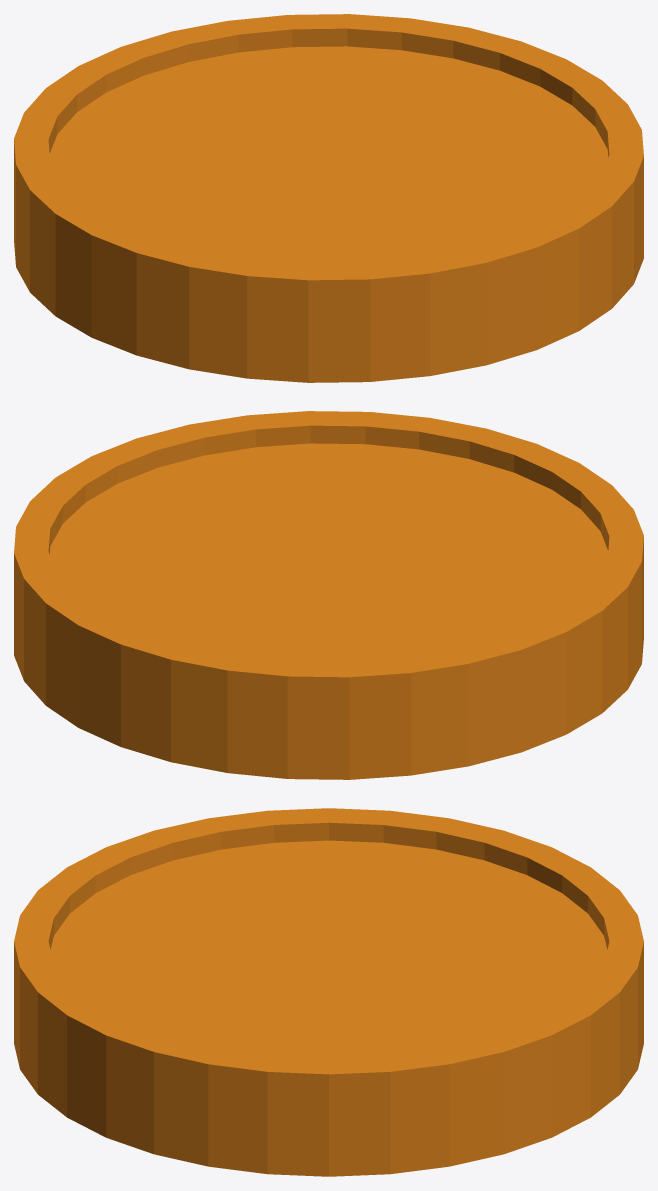
Rendered from Coin.fbx.
The picture shows the model from 3 angles, top to bottom: view 1: azimuth 30°, elevation 25°; view 2: azimuth 150°, elevation 25°; view 3: azimuth 270°, elevation 25°; orthographic projection.
Visible parts, largest first — view 1: Circle.001; view 2: Circle.001; view 3: Circle.001.
Boxes of the visible parts, x1,y1,x2,y2 form: Circle.001: [14, 14, 643, 382]; Circle.001: [14, 411, 643, 779]; Circle.001: [14, 808, 643, 1176].
Size of the model in its own units: 32.17 by 5.77 by 32.17.
